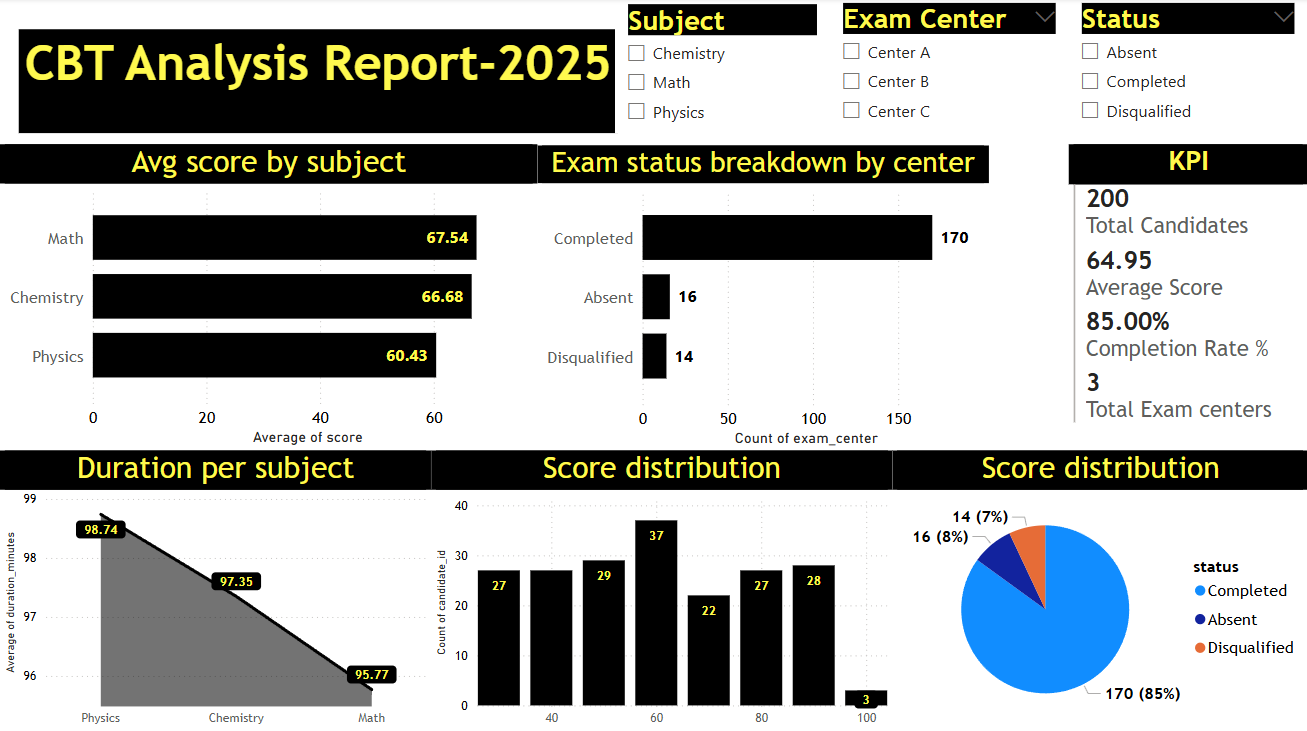

Layout of this report page (visuals, bound fields, positions):
{"tool":"powerbi","page":{"name":"Page 1","canvas":[1280,720],"ordinal":0},"visuals":[{"type":"multiRowCard","title":"KPI","fields":{"Values":["SQL_Sprint1_CBT_Dataset.candidate_id","Avg(SQL_Sprint1_CBT_Dataset.score)","SQL_Sprint1_CBT_Dataset.completion rate %","SQL_Sprint1_CBT_Dataset.exam_center"]},"box":[1045.5,143.1,234.8,299.6],"z":0},{"type":"barChart","title":"Avg score by subject","fields":{"Y":["Avg(SQL_Sprint1_CBT_Dataset.score)"],"Category":["SQL_Sprint1_CBT_Dataset.subject"]},"box":[0,143.1,525.8,299.6],"z":1000},{"type":"barChart","title":"Exam status breakdown by center ","fields":{"Category":["SQL_Sprint1_CBT_Dataset.status"],"Y":["CountNonNull(SQL_Sprint1_CBT_Dataset.exam_center)"]},"box":[525.8,144.3,441.4,299.6],"z":2000},{"type":"areaChart","title":"Duration per subject","fields":{"Category":["SQL_Sprint1_CBT_Dataset.subject"],"Y":["Avg(SQL_Sprint1_CBT_Dataset.duration_minutes)"]},"box":[0,442.7,421.9,277.6],"z":3000},{"type":"columnChart","title":"Score distribution","fields":{"Category":["SQL_Sprint1_CBT_Dataset.score (bins)"],"Y":["CountNonNull(SQL_Sprint1_CBT_Dataset.candidate_id)"]},"box":[421.9,442.7,451.2,277.6],"z":4000},{"type":"pieChart","title":"Score distribution","fields":{"Category":["SQL_Sprint1_CBT_Dataset.status"],"Y":["CountNonNull(SQL_Sprint1_CBT_Dataset.candidate_id)"]},"box":[873.1,442.7,407.2,277.6],"z":5000},{"type":"textbox","title":"CBT Analysis Report","box":[18.3,30.6,585.7,101.5],"z":6000},{"type":"slicer","title":"Avg score by subject","fields":{"Values":["SQL_Sprint1_CBT_Dataset.subject"]},"box":[601.6,1.2,210.3,130.8],"z":7000},{"type":"slicer","title":"Avg score by subject","fields":{"Values":["SQL_Sprint1_CBT_Dataset.exam_center"]},"box":[812,0,233.6,130.8],"z":8000},{"type":"slicer","title":"Avg score by subject","fields":{"Values":["SQL_Sprint1_CBT_Dataset.status"]},"box":[1045.5,0,233.6,130.8],"z":9000}]}

Visuals, with their boxes in screenshot pixels (x1, y1, x2, y2), scaled from the page's 1280x720 canvas onto the 1307x731 screenshot:
"KPI" multiRowCard: 1068, 145, 1306, 449
"Avg score by subject" barChart: 0, 145, 537, 449
"Exam status breakdown by center " barChart: 537, 147, 988, 451
"Duration per subject" areaChart: 0, 449, 431, 730
"Score distribution" columnChart: 431, 449, 892, 730
"Score distribution" pieChart: 892, 449, 1306, 730
"CBT Analysis Report" textbox: 19, 31, 617, 134
"Avg score by subject" slicer: 614, 1, 829, 134
"Avg score by subject" slicer: 829, 0, 1068, 133
"Avg score by subject" slicer: 1068, 0, 1306, 133
